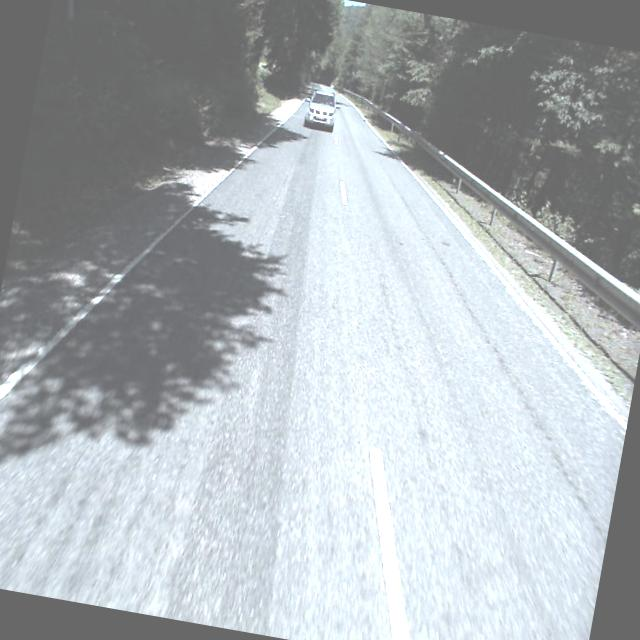road: (0, 82, 627, 640)
